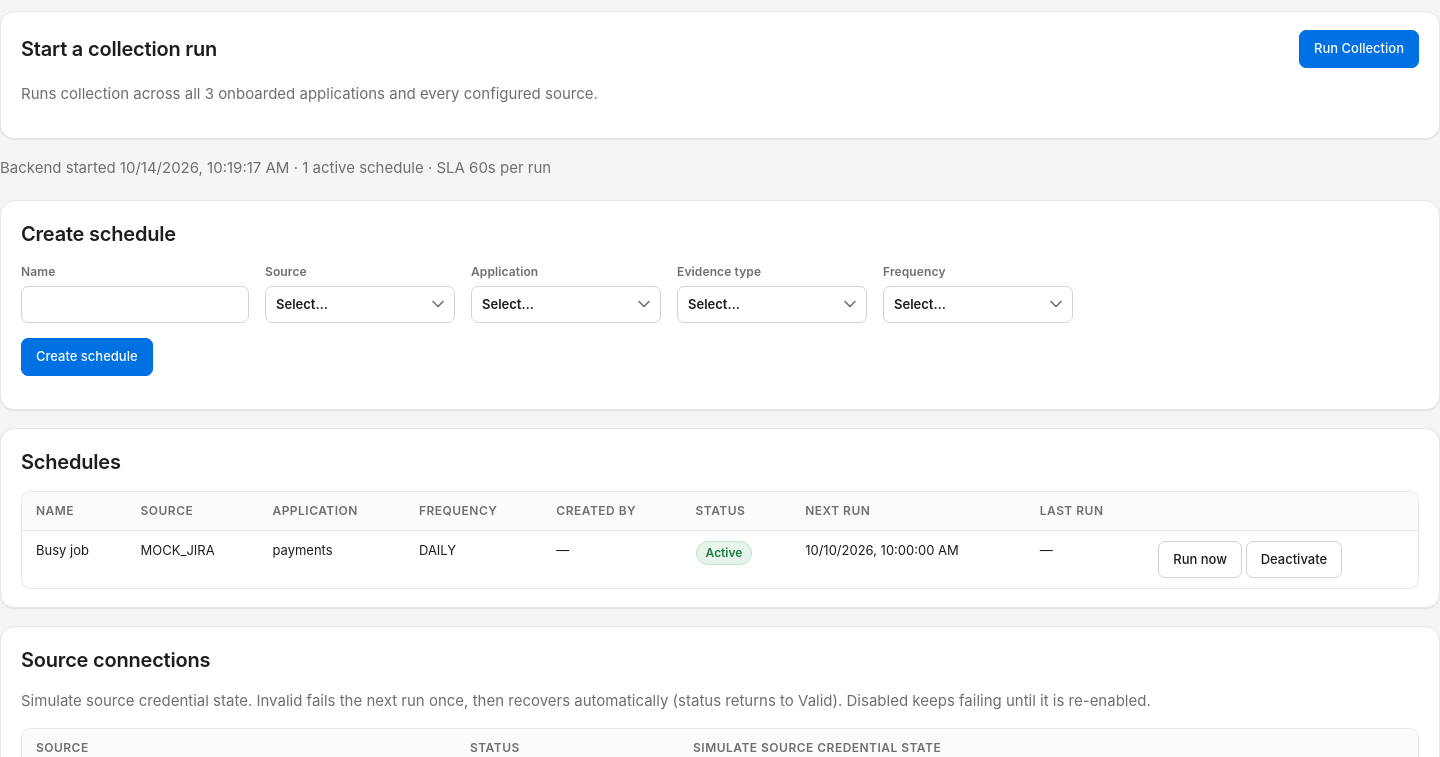
Scheduler › shows "Already running" with a way to open the active run when Run now hits a 409
The image size is (1440, 757).
Click the button "Run now" at (1200, 559), box [1158,540,1242,578]
(page scrolled)
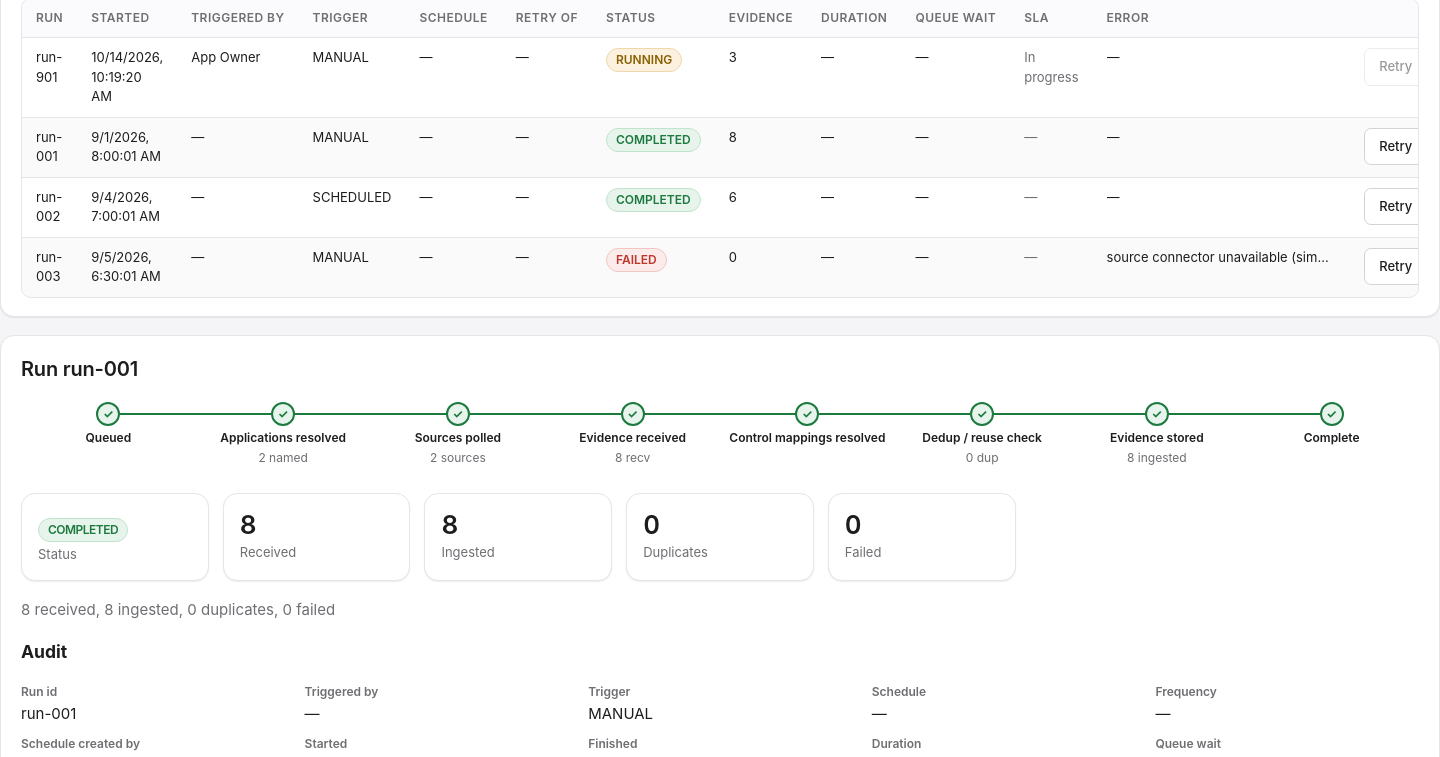
Check: the heading "Run run-001" is shown, box [21,354,138,384]
